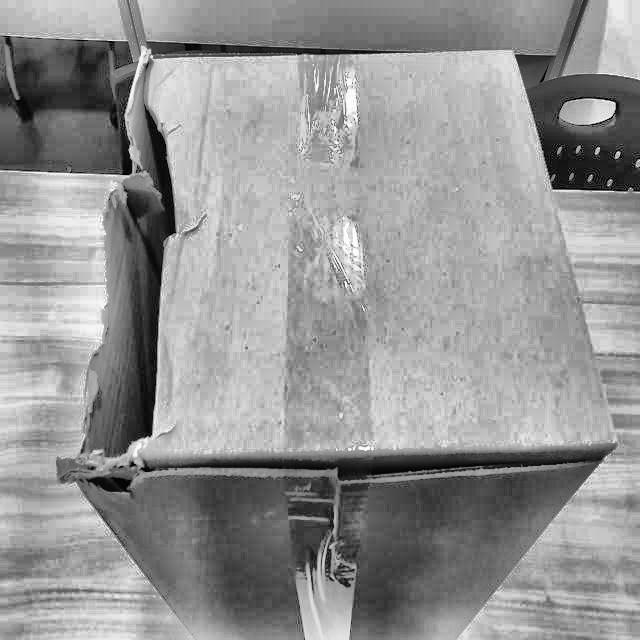box: (38, 40, 635, 639)
hole: (82, 96, 181, 491)
